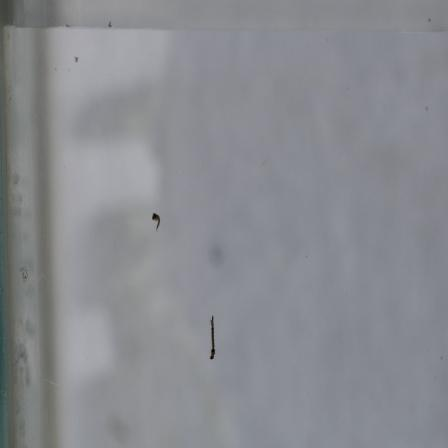Jentik-Nyamuk: (204, 312, 220, 363), (149, 208, 162, 233)
